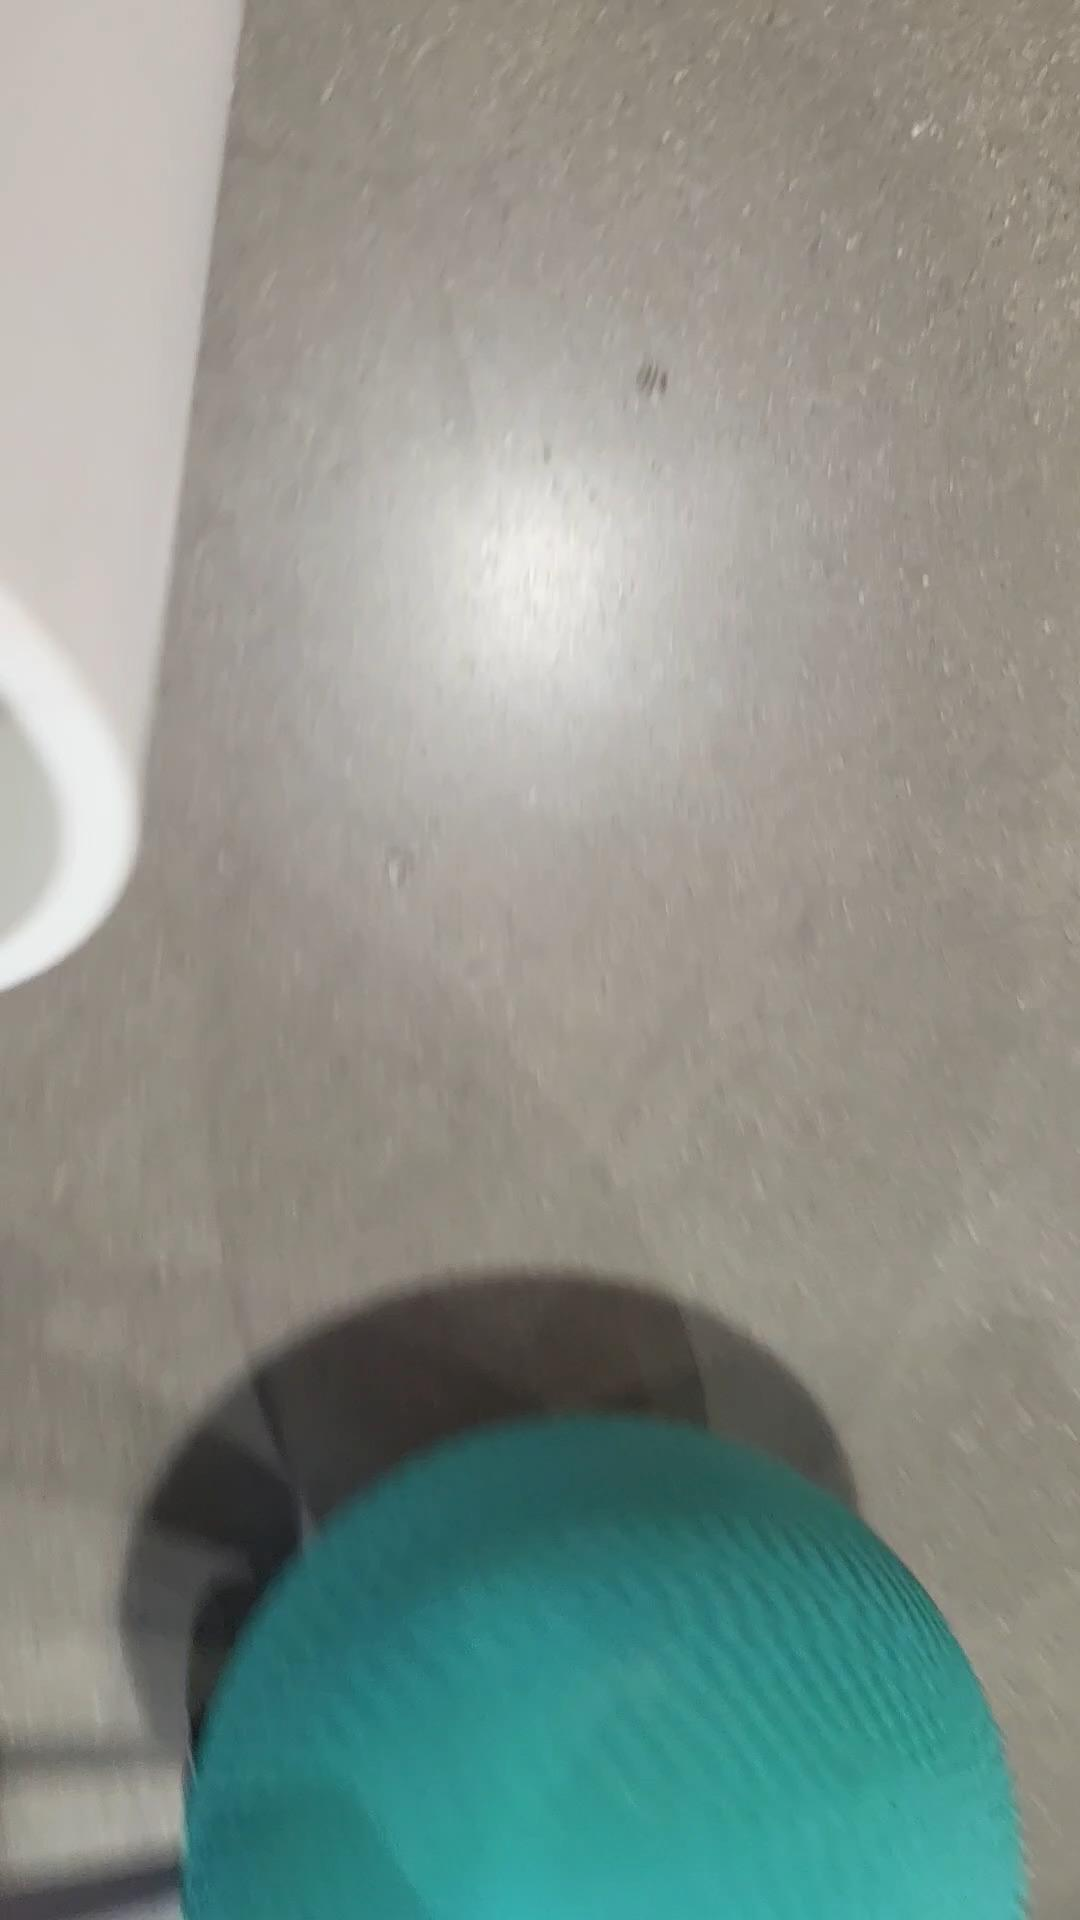algae: (183, 1379, 1043, 1920)
coral: (0, 0, 266, 990)
